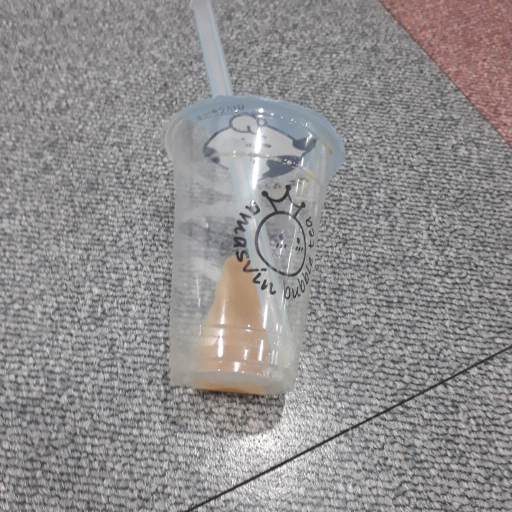Plastic_2: (159, 3, 346, 399)
